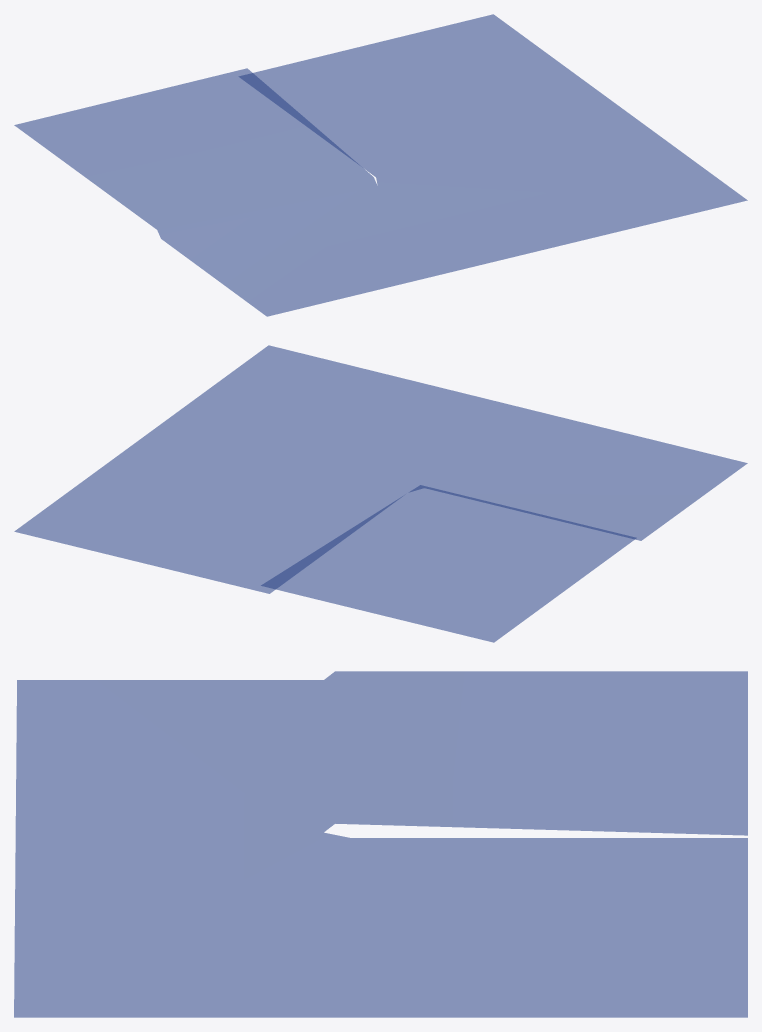
File: nongchang_shui.glb
3 renders of one model, top to bottom at view 1: azimuth 30°, elevation 25°; view 2: azimuth 150°, elevation 25°; view 3: azimuth 270°, elevation 25°, orthographic. The views are drawn at different scales.
Parts seen in each view (by area): view 1: lib:nongchang_shui; view 2: lib:nongchang_shui; view 3: lib:nongchang_shui.
Part boxes in pixels (bbox=[...]): lib:nongchang_shui: bbox=[14, 14, 747, 316]; lib:nongchang_shui: bbox=[14, 345, 747, 642]; lib:nongchang_shui: bbox=[14, 671, 747, 1017].
Size of the model in its own units: 166 by 2 by 152.
